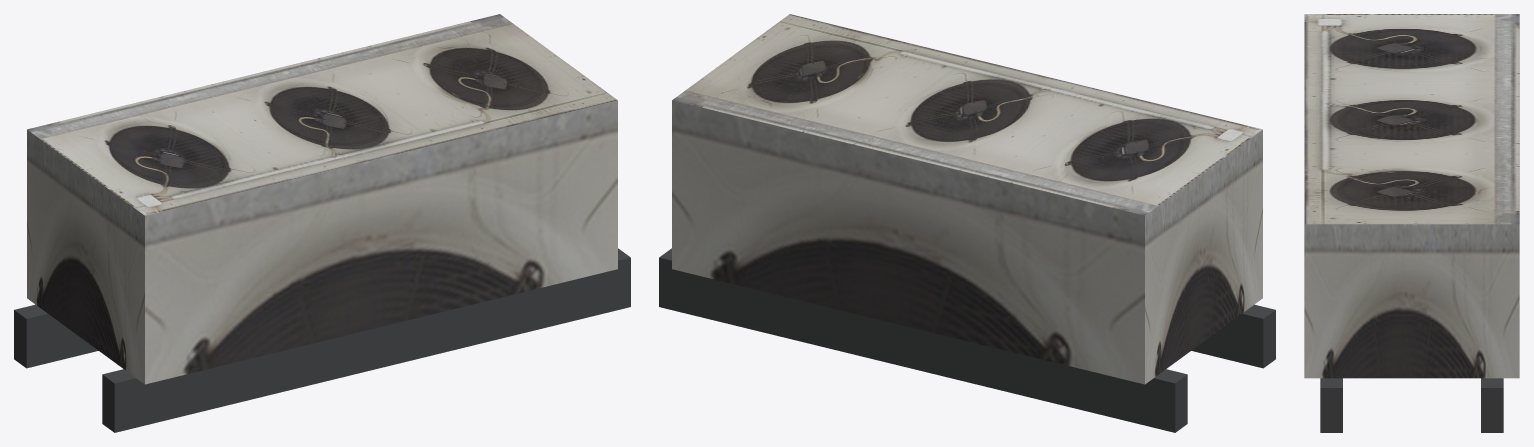
The picture shows the model from 3 angles, left to right: view 1: azimuth 30°, elevation 25°; view 2: azimuth 150°, elevation 25°; view 3: azimuth 270°, elevation 25°; orthographic projection. The views are drawn at different scales.
Visible parts, largest first — view 1: ACBox; view 2: ACBox; view 3: ACBox.
Boxes of the visible parts, x1,y1,x2,y2 form: ACBox: [14, 14, 630, 432]; ACBox: [659, 14, 1275, 432]; ACBox: [1304, 14, 1519, 432].
Bounding box in the file's own units: 2.4 × 0.97 × 0.95.
Materials: 1 (1 with a texture image).
